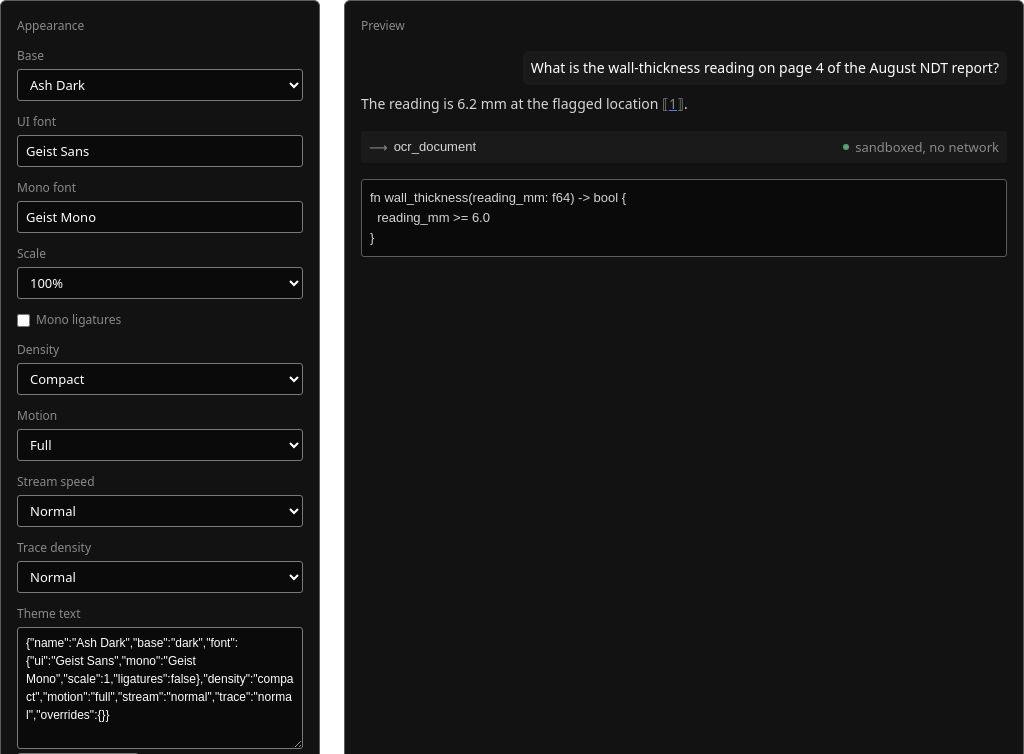
Test: AppearancePanel › shows the parser error rather than applying an invalid blob
Replace the text in the text box labelled "Theme text" with "not json": (160, 688) [17,627,303,749]
(page scrolled)
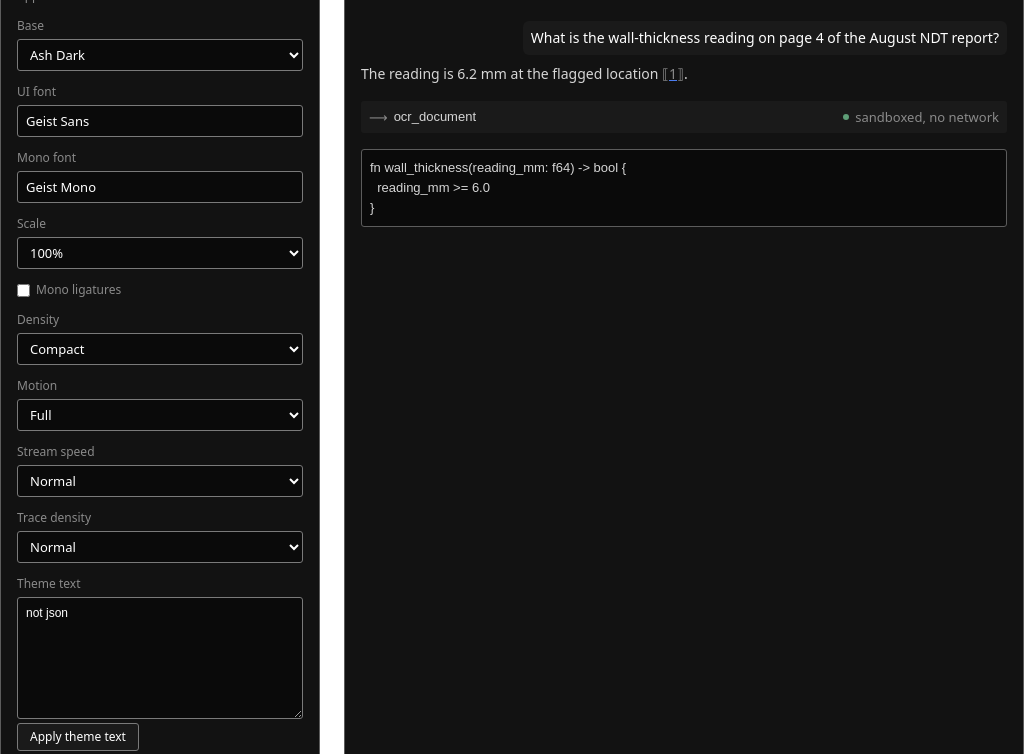
Click the button "Apply theme text": (78, 737) [17,723,139,751]
(page scrolled)
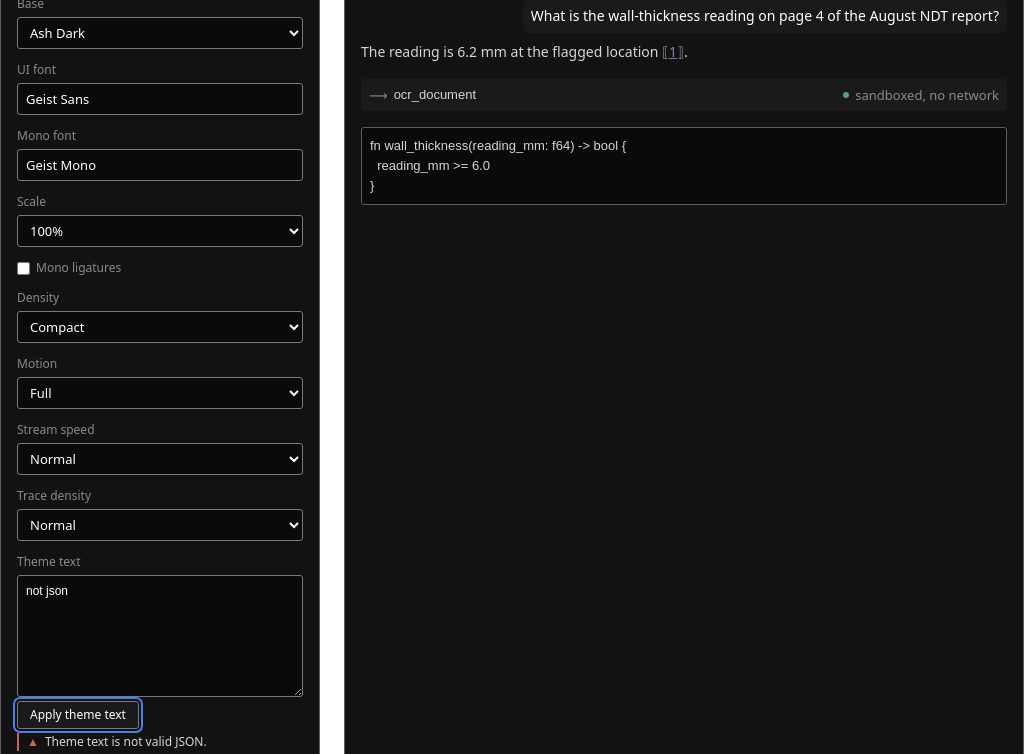
Expected: the message shows "valid JSON", [45,733,207,750]
